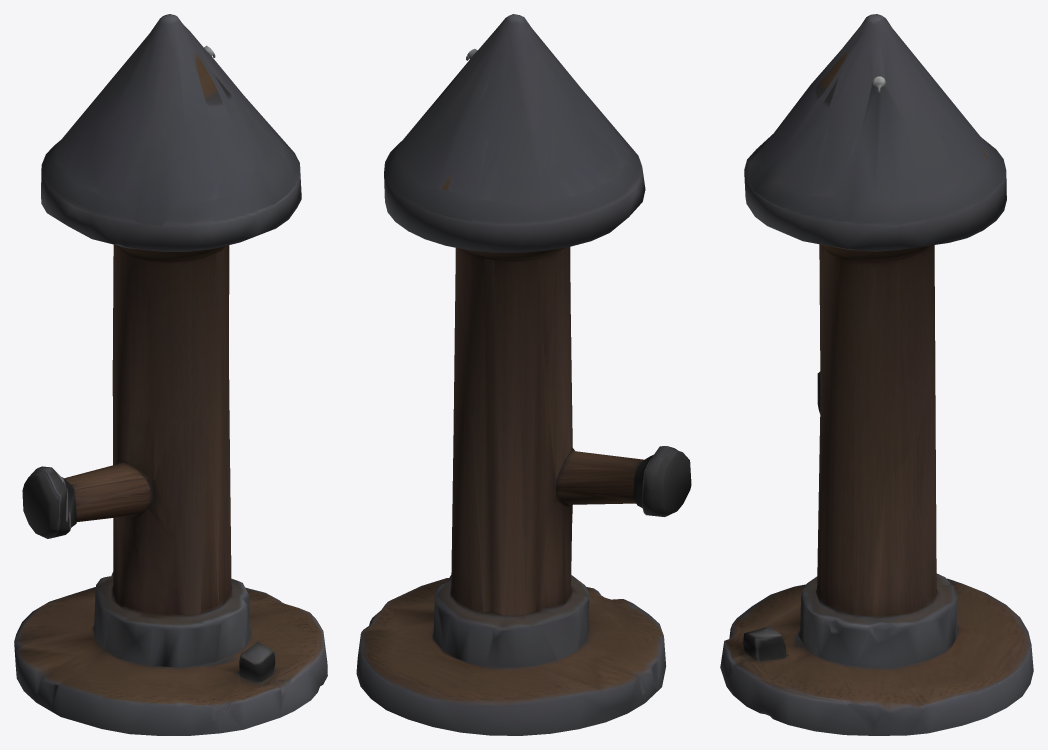
The model's file is coach_flue.glb.
3 views of the same model, side by side, from view 1: azimuth 30°, elevation 25°; view 2: azimuth 150°, elevation 25°; view 3: azimuth 270°, elevation 25° (orthographic).
Visible parts, largest first — view 1: coach_flue_LOD0; view 2: coach_flue_LOD0; view 3: coach_flue_LOD0.
Part boxes in pixels (left/top/right/bottom): coach_flue_LOD0: left=14, top=14, right=327, bottom=735; coach_flue_LOD0: left=356, top=14, right=691, bottom=735; coach_flue_LOD0: left=720, top=14, right=1033, bottom=735.
Size of what is drawn, in the model's own units: 0.4096 by 0.9 by 0.3909.
1 material, 1 textured.
